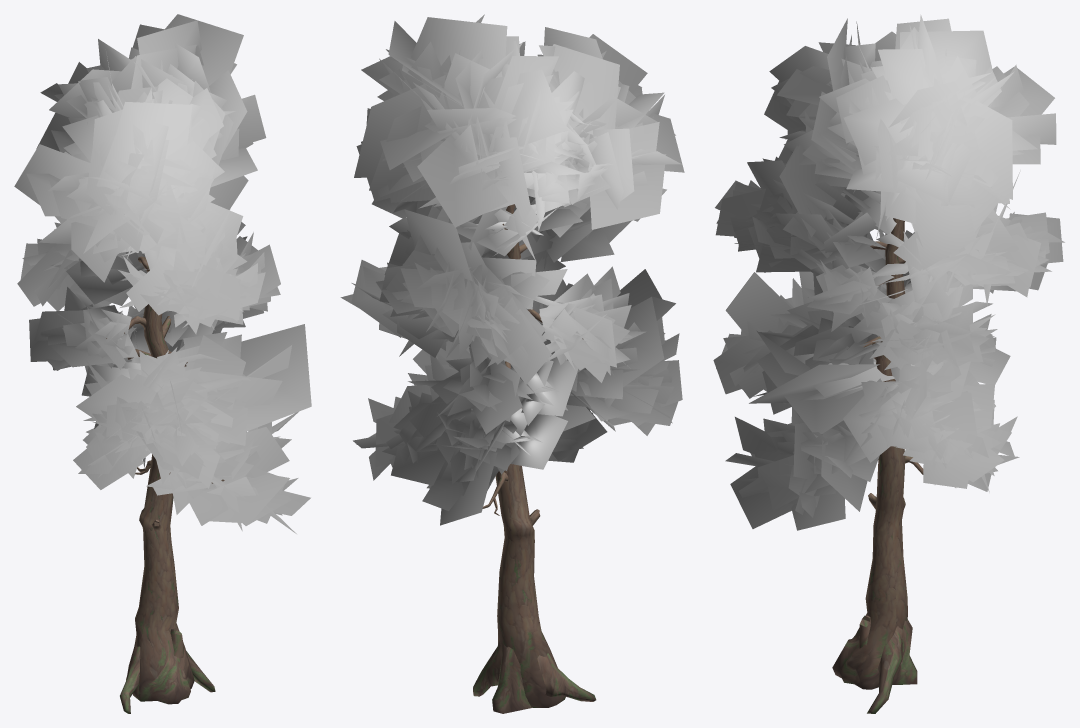
Rendered from SM_EastLands_Conifer_Straight_01.fbx.
The picture shows the model from 3 angles, left to right: view 1: azimuth 30°, elevation 25°; view 2: azimuth 150°, elevation 25°; view 3: azimuth 270°, elevation 25°; orthographic projection. The views are drawn at different scales.
Visible parts, largest first — view 1: SM_EastLands_Conifer_Straight_01_LOD0; view 2: SM_EastLands_Conifer_Straight_01_LOD0; view 3: SM_EastLands_Conifer_Straight_01_LOD0.
Part boxes in pixels (x1,y1,x2,y2): SM_EastLands_Conifer_Straight_01_LOD0: (14, 14, 311, 713); SM_EastLands_Conifer_Straight_01_LOD0: (340, 14, 684, 713); SM_EastLands_Conifer_Straight_01_LOD0: (713, 14, 1064, 713).
Bounding box in the file's own units: 1040 × 2528 × 1196.
